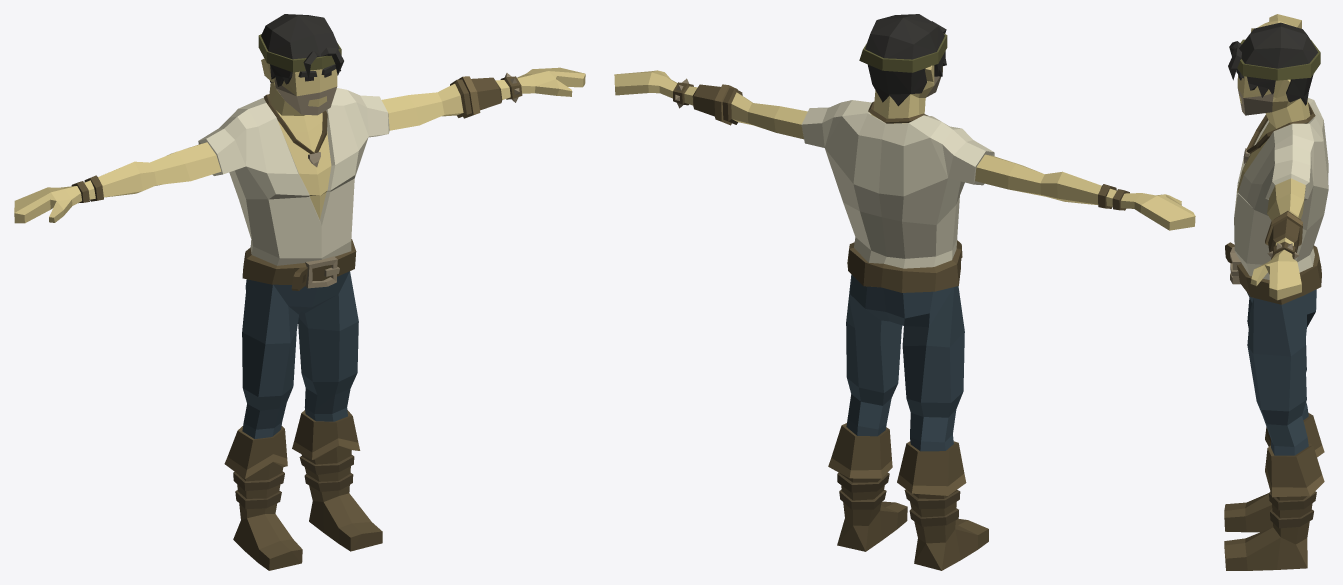
Rendered from Pirate_4.fbx.
3 views of the same model, side by side, from view 1: azimuth 30°, elevation 25°; view 2: azimuth 150°, elevation 25°; view 3: azimuth 270°, elevation 25° (orthographic). The views are drawn at different scales.
Parts seen in each view (by area): view 1: Pirate_4; view 2: Pirate_4; view 3: Pirate_4.
Part boxes in pixels (bbox=[...]): Pirate_4: bbox=[14, 14, 585, 570]; Pirate_4: bbox=[614, 14, 1195, 570]; Pirate_4: bbox=[1224, 14, 1328, 570].
Size of the model in its own units: 205 by 178 by 32.7.
